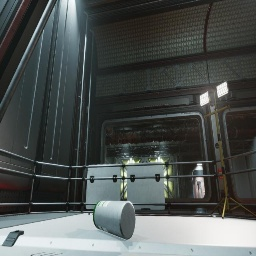0: (93, 201, 136, 240)
FireAlarm ,: (218, 169, 223, 179)
